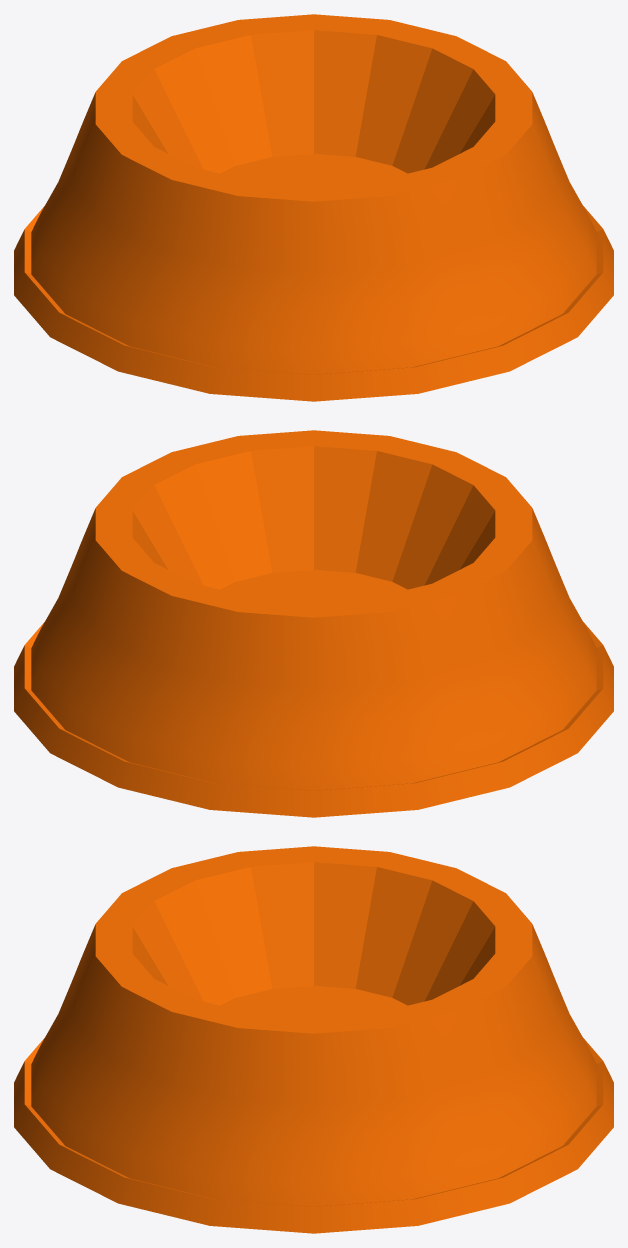
Rendered from Shopping List Cat Bowl.FBX.
The picture shows the model from 3 angles, top to bottom: view 1: azimuth 30°, elevation 25°; view 2: azimuth 150°, elevation 25°; view 3: azimuth 270°, elevation 25°; orthographic projection.
Parts seen in each view (by area): view 1: Golden Bowl; view 2: Golden Bowl; view 3: Golden Bowl.
Boxes of the visible parts, x1=… form: Golden Bowl: x1=14, y1=14, x2=613, y2=401; Golden Bowl: x1=14, y1=430, x2=613, y2=817; Golden Bowl: x1=14, y1=846, x2=613, y2=1233.
Bounding box in the file's own units: 9.74 × 2.91 × 9.59.
